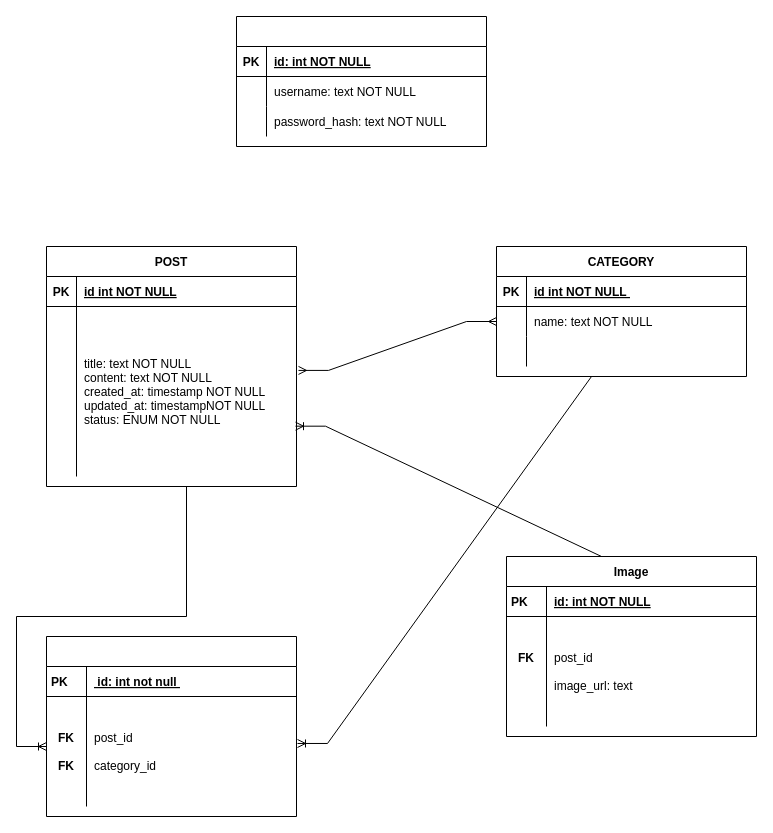
Some shapes in this 773 by 833 pixel diagram are drawn without their labels. The shapes that lost their labels are listed below. From the top down, each one's box as (x1, y1, x2, y2) in pixels, then its label:
(236, 16, 486, 146): ADMIN
(46, 636, 296, 816): POST_CATEGORY (INDEX)
